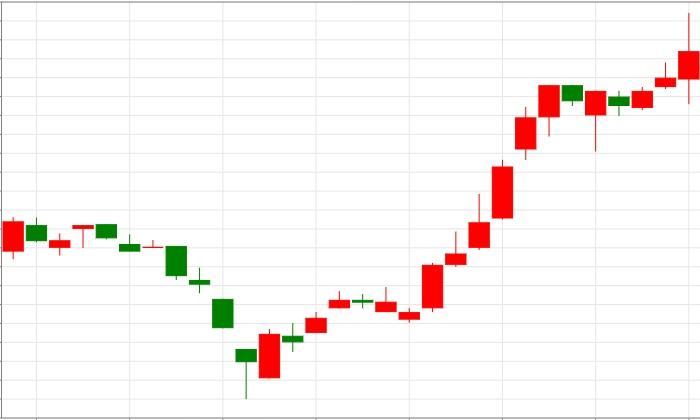three_white_soldiers_rise: (538, 12, 700, 151), (351, 231, 467, 323)
